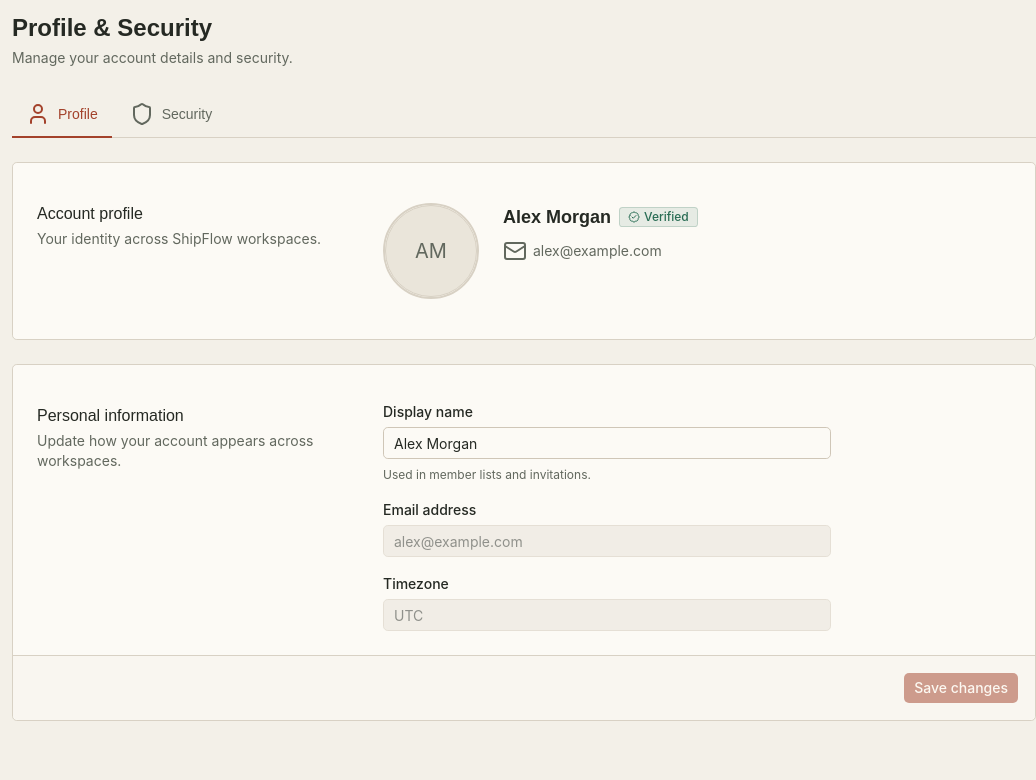
Test case: Profile › updates the backend profile and shared auth user
Replace the text in the field labelled "Display name" with "Sam Rivera" at [607, 443], box [383,427,831,459]
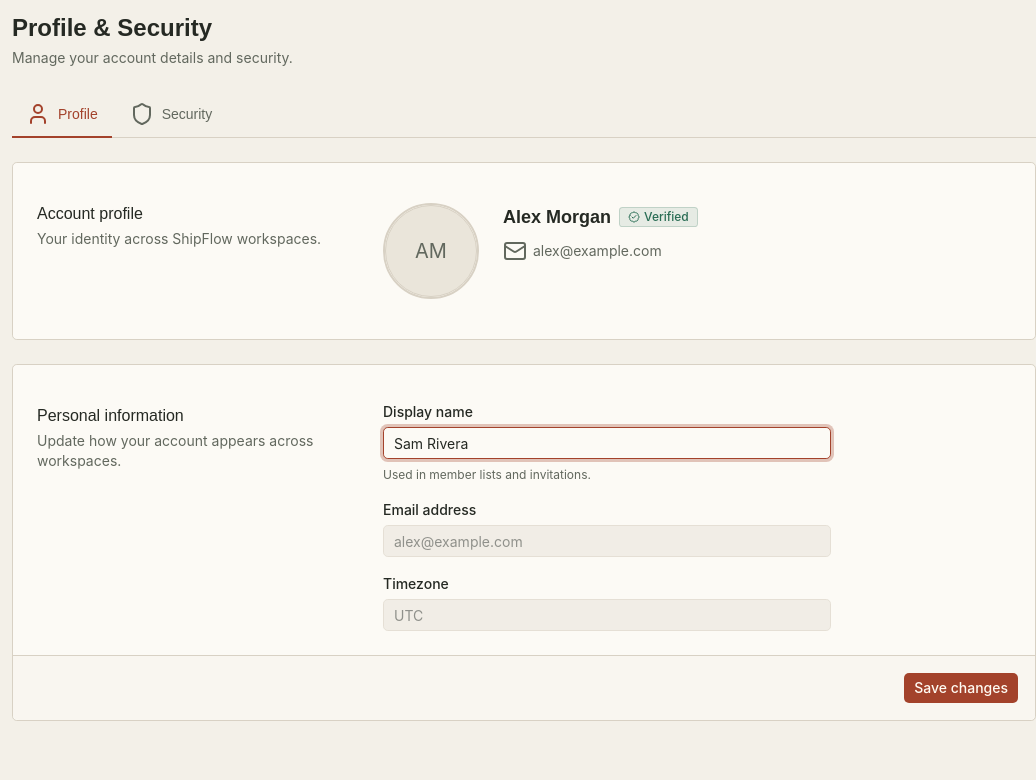
Click the button "Save changes".
click(961, 688)  # box [903,672,1019,704]
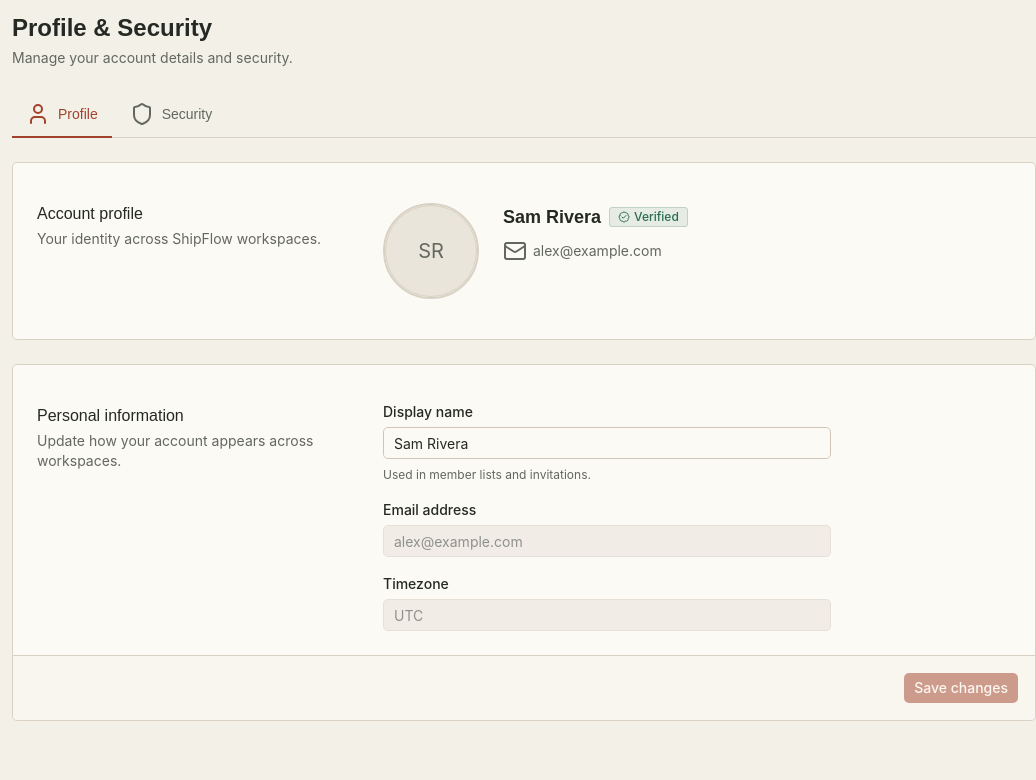
Result: the heading "Sam Rivera" is shown at [503,203,601,231]
